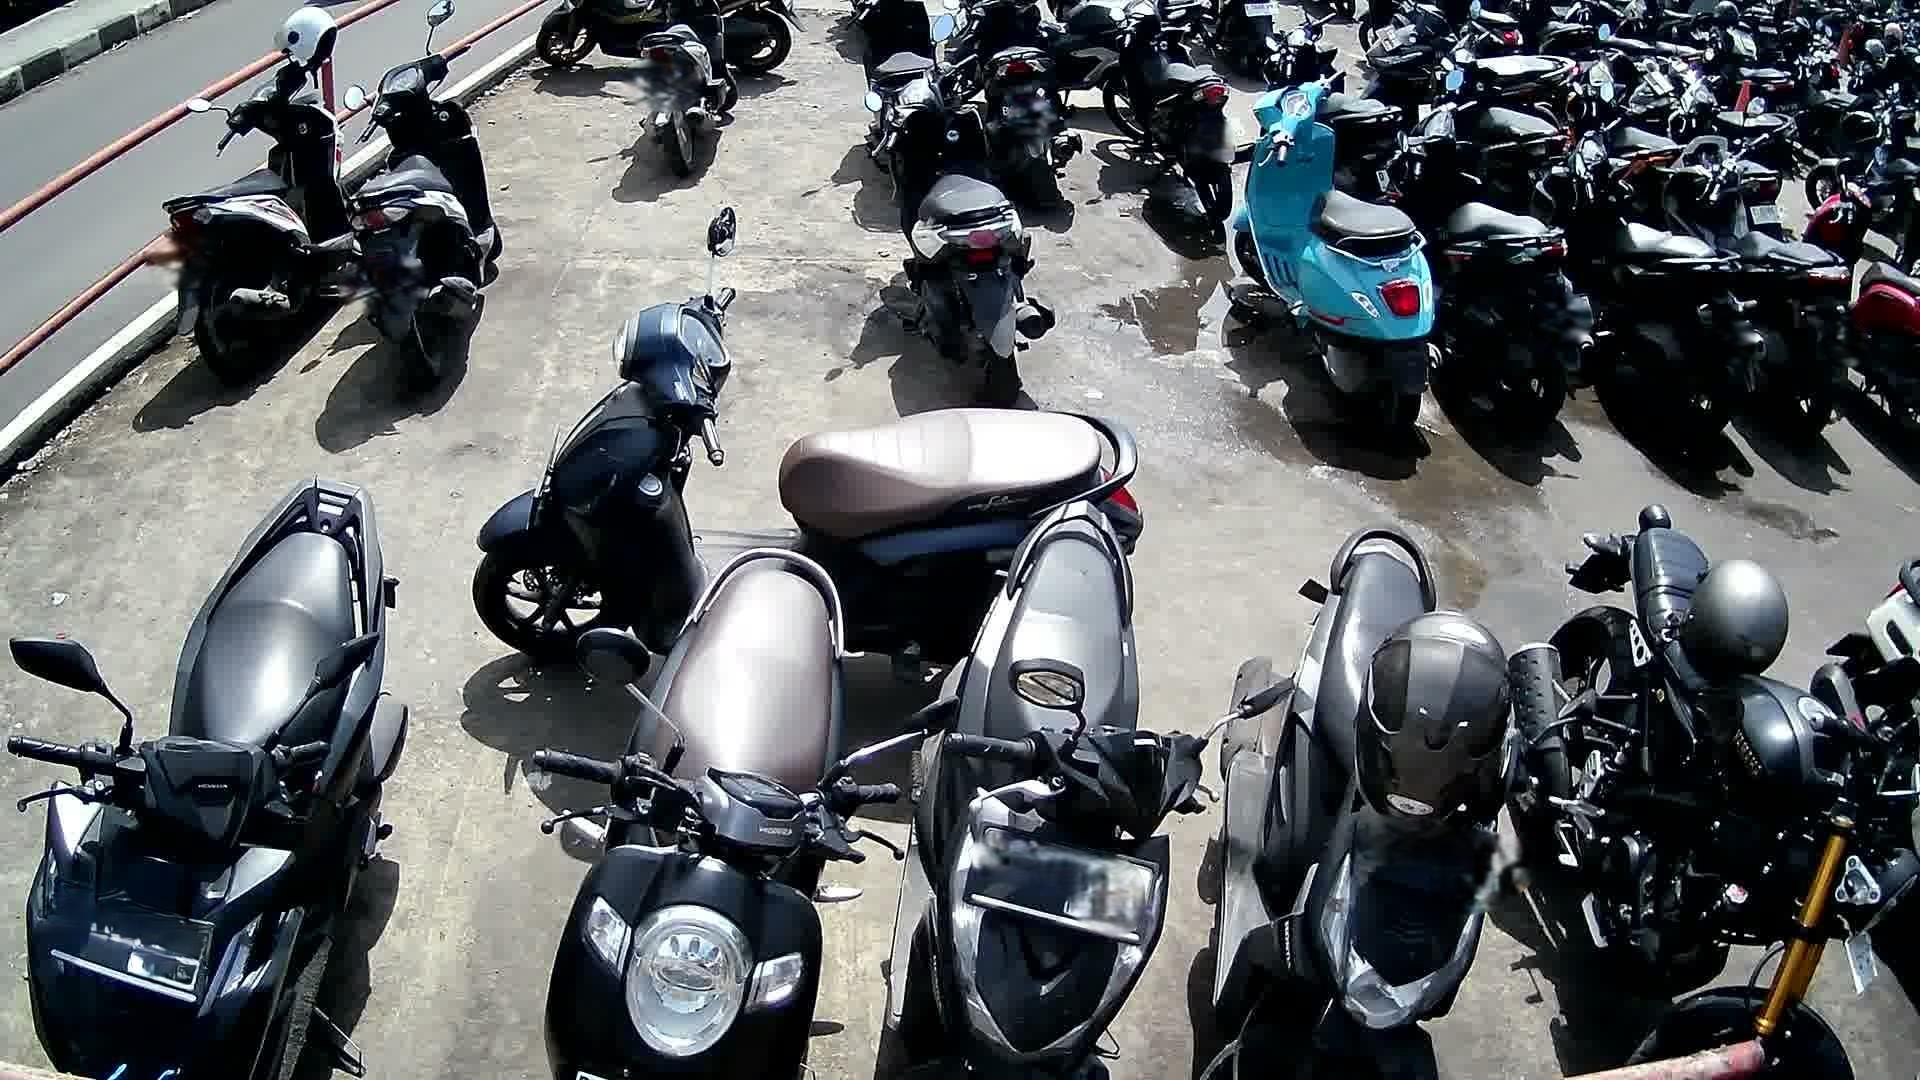motorcycle: (472, 207, 1143, 665), (11, 476, 409, 1080), (1509, 498, 1920, 1079), (531, 546, 918, 1080), (887, 500, 1237, 1080), (1211, 525, 1513, 1080), (1527, 84, 1768, 454), (1232, 69, 1444, 455), (1382, 71, 1597, 442), (1647, 98, 1859, 444), (861, 49, 1059, 405), (160, 61, 359, 382), (345, 4, 506, 392), (1803, 164, 1920, 439)
